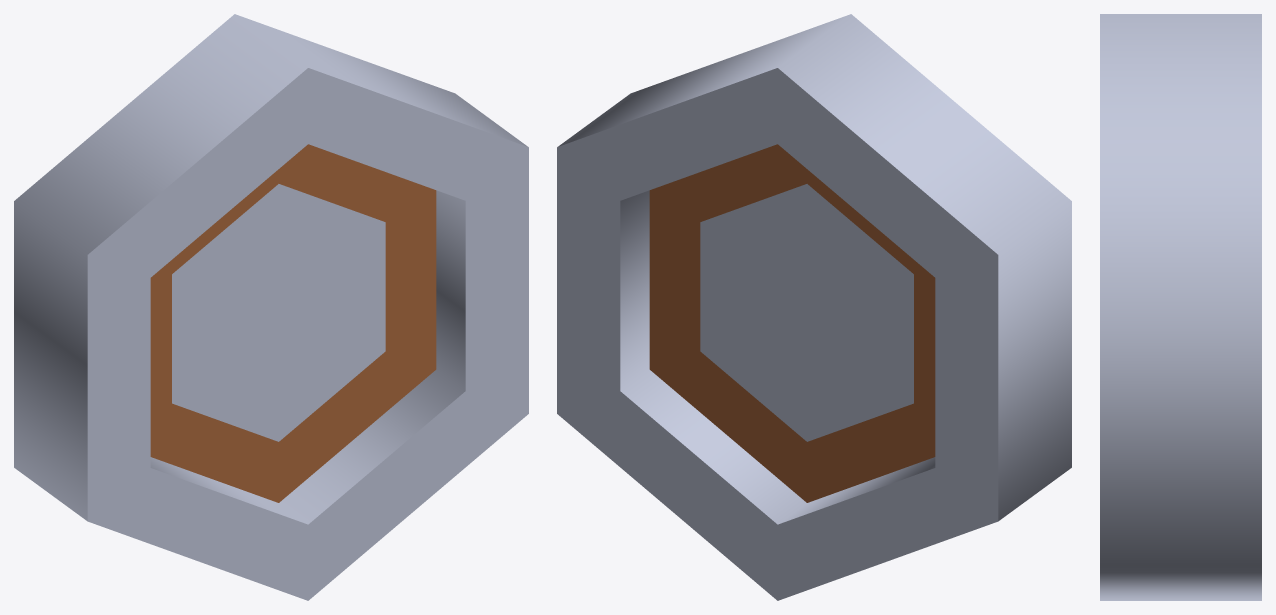
File: coinSilver.glb
3 views of the same model, side by side, from view 1: azimuth 30°, elevation 25°; view 2: azimuth 150°, elevation 25°; view 3: azimuth 270°, elevation 25° (orthographic). The views are drawn at different scales.
Visible parts, largest first — view 1: coinSilver; view 2: coinSilver; view 3: coinSilver.
Part boxes in pixels (x1,y1,x2,y2): coinSilver: (14,14,528,600); coinSilver: (557,14,1071,600); coinSilver: (1100,14,1261,600).
Size of the model in its own units: 0.3464 by 0.4 by 0.1.
